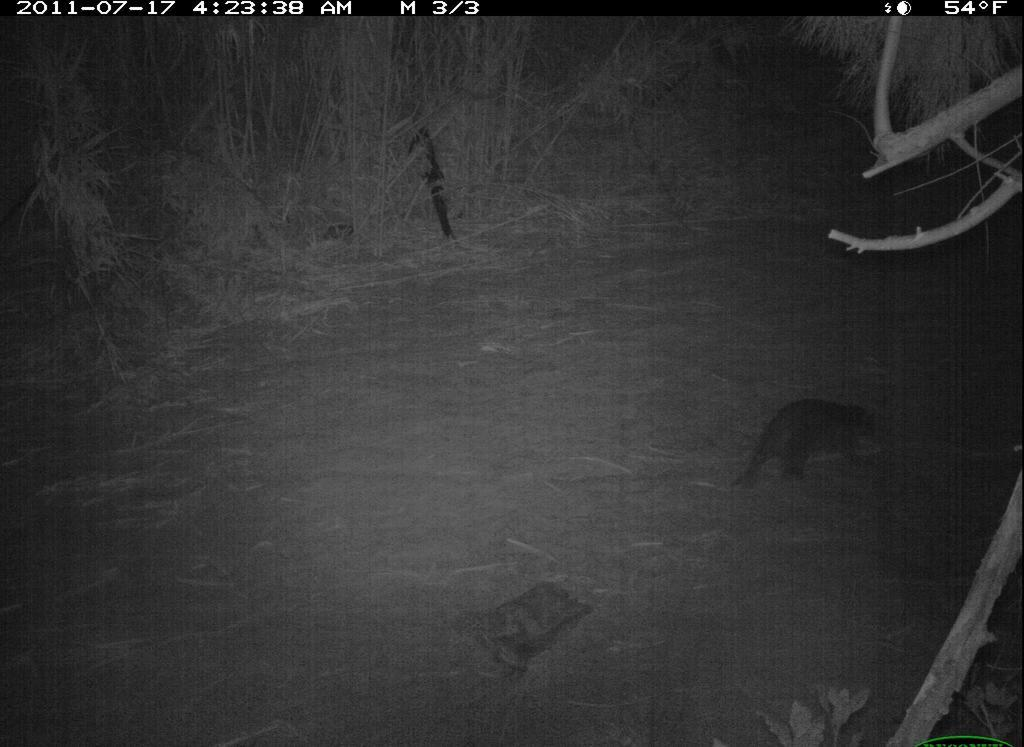raccoon: (733, 387, 897, 505)
